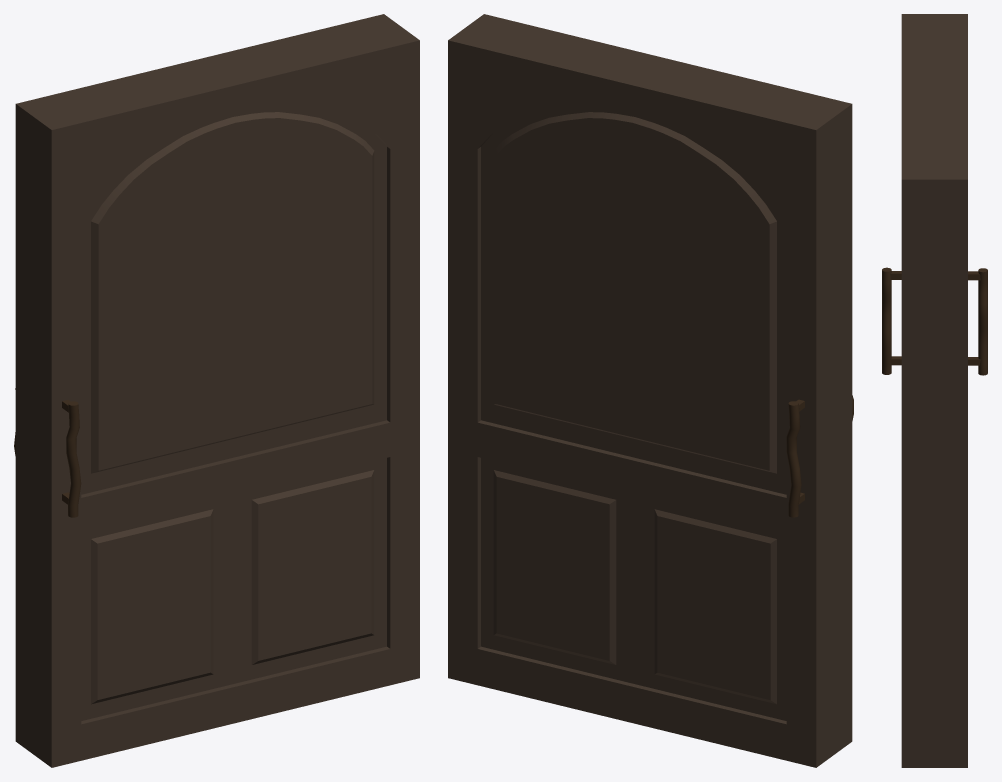
File: Lodge_Frontdoor.fbx
3 views of the same model, side by side, from view 1: azimuth 30°, elevation 25°; view 2: azimuth 150°, elevation 25°; view 3: azimuth 270°, elevation 25° (orthographic). The views are drawn at different scales.
Parts seen in each view (by area): view 1: pCube49; view 2: pCube49; view 3: pCube49.
Boxes of the visible parts, x1,y1,x2,y2 form: pCube49: [14, 14, 419, 767]; pCube49: [448, 14, 853, 767]; pCube49: [882, 14, 987, 767].
Size of the model in its own units: 1.45 by 2.41 by 0.3928.
